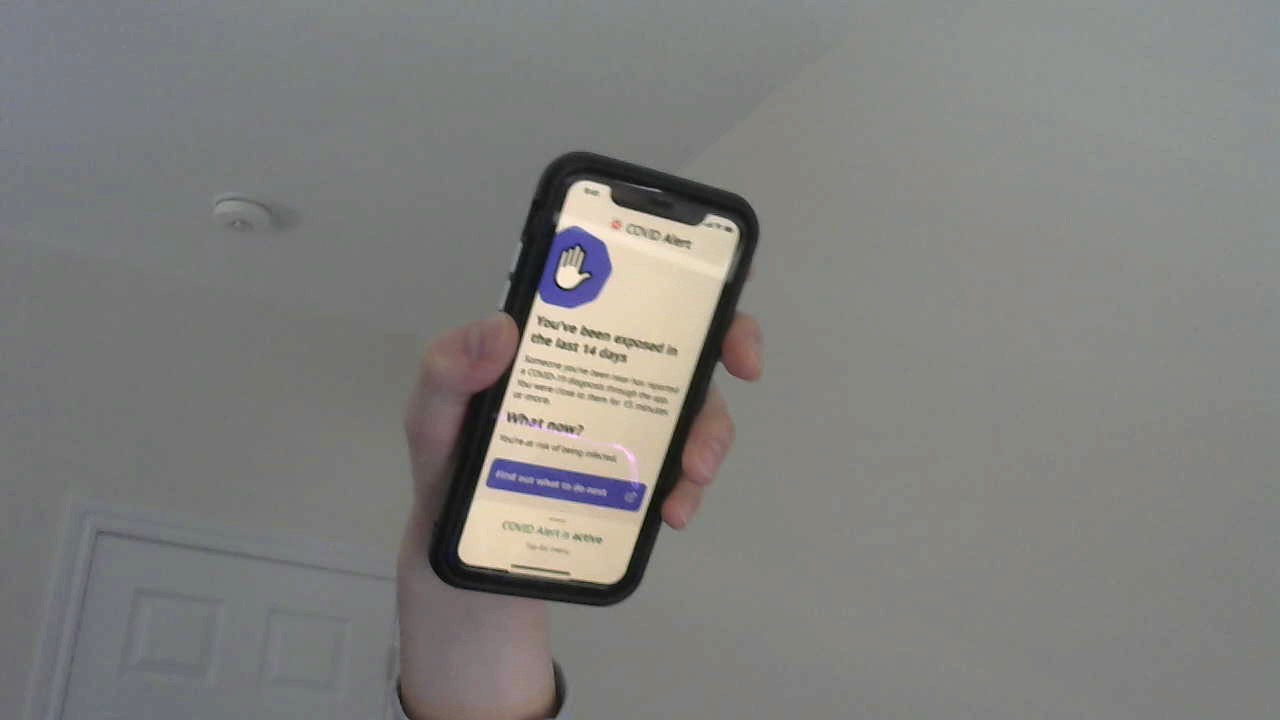Exposed: (519, 220, 702, 369)
